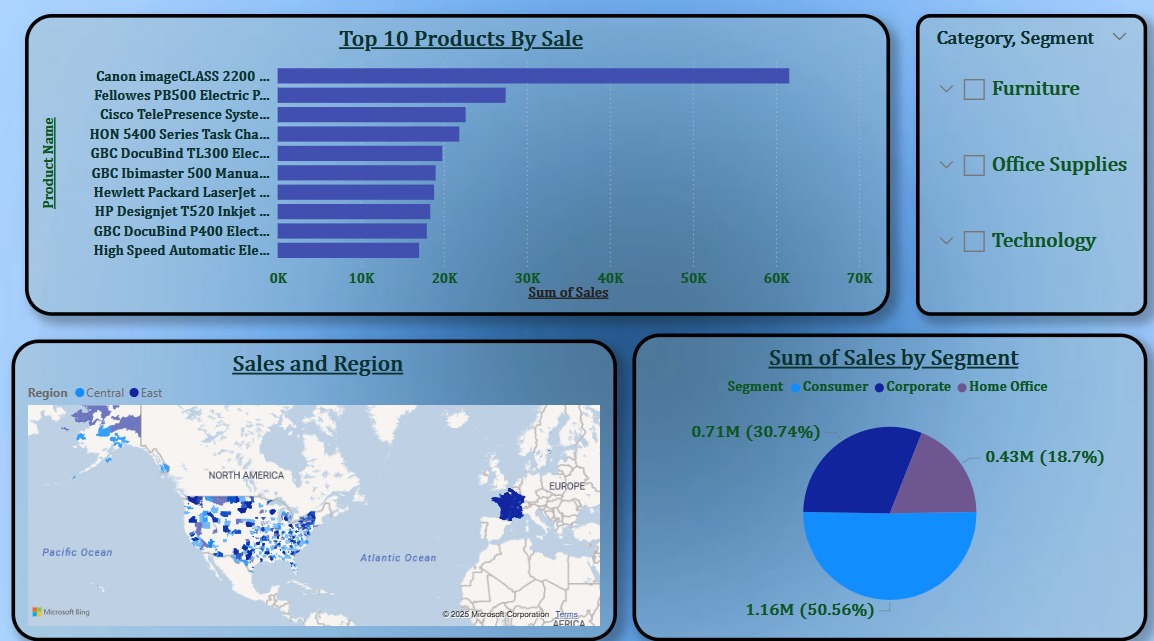

The page's visual inventory and layout, read from the dashboard file:
{"tool":"powerbi","page":{"name":"Deep Dive","canvas":[1280,720],"ordinal":1},"visuals":[{"type":"pieChart","fields":{"Category":["Orders.Segment"],"Y":["Sum(Orders.Sales)"]},"box":[700,380,568.3,340],"z":1000},{"type":"clusteredBarChart","title":"Top 10 Products By Sale","fields":{"Y":["Sum(Orders.Sales)"],"Category":["Orders.Product Name"]},"box":[30,26.7,955,333.3],"z":2000},{"type":"slicer","fields":{"Values":["Orders.Category","Orders.Segment"]},"box":[1013.3,26.7,255,333.3],"z":3000},{"type":"filledMap","fields":{"Category":["Orders.Sales"],"Series":["Orders.Region"]},"box":[15,386.7,668.3,333.3],"z":4001}]}

Visuals, with their boxes in screenshot pixels (x1, y1, x2, y2), scaled from the page's 1280x720 canvas onto the 1154x641 screenshot:
pieChart - Orders.Segment x Sum(Orders.Sales): (631, 338, 1143, 640)
"Top 10 Products By Sale" clusteredBarChart: (27, 24, 888, 320)
slicer - Orders.Category x Orders.Segment: (914, 24, 1143, 320)
filledMap - Orders.Sales x Orders.Region: (14, 344, 616, 640)
